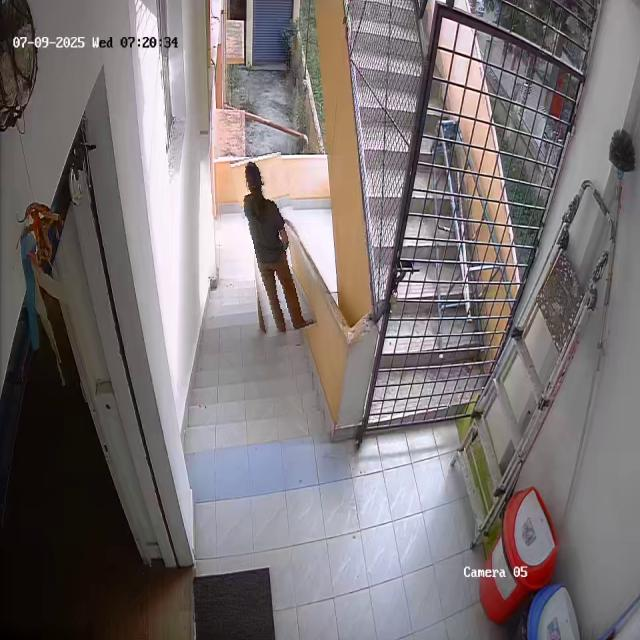person: (239, 153, 309, 335)
